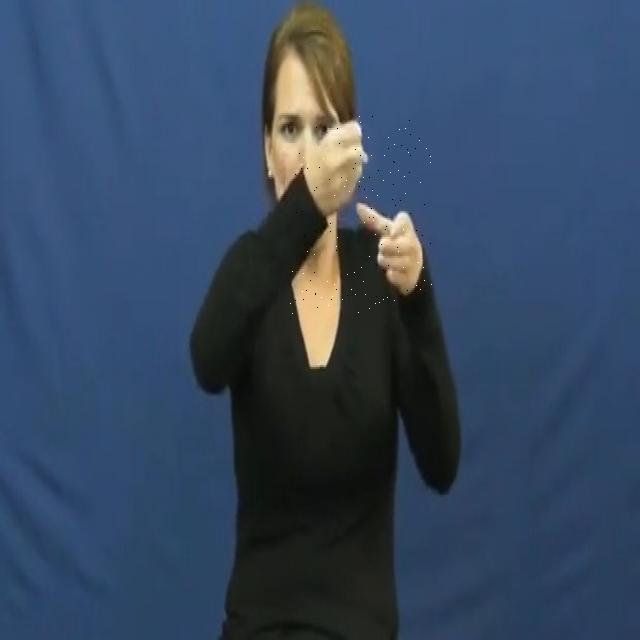lactose: (290, 116, 434, 314)
